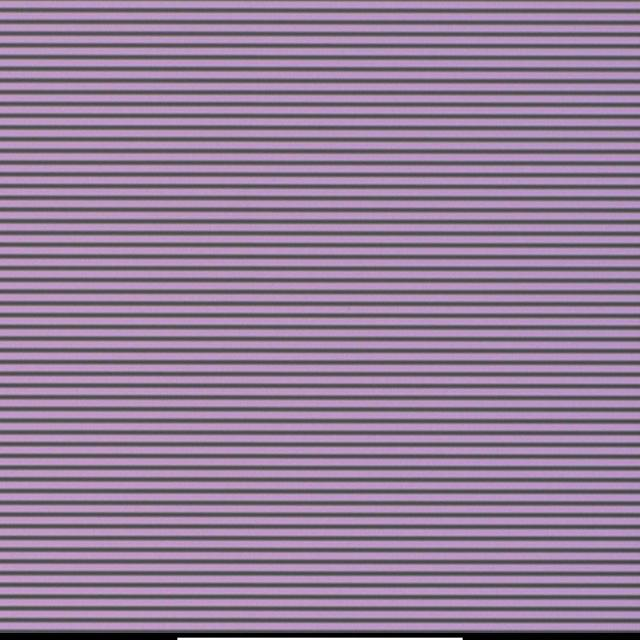nonvisual: (316, 290, 325, 300)
